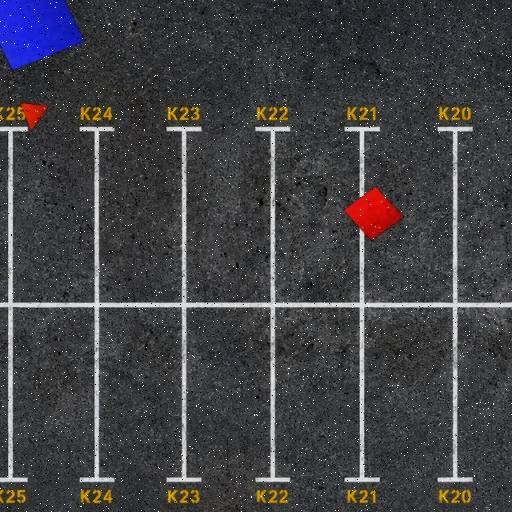BLUE_SQUARE: (0, 0, 85, 71)
RED_SQUARE: (343, 186, 404, 242)
